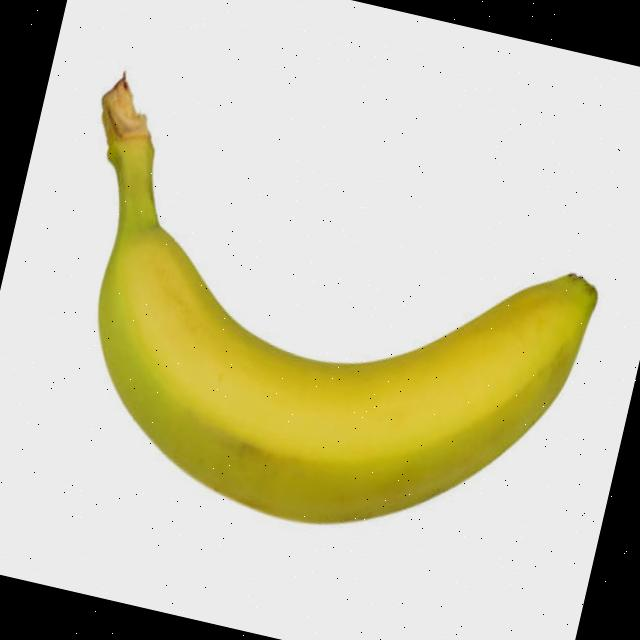Ripe: (44, 122, 616, 578)
